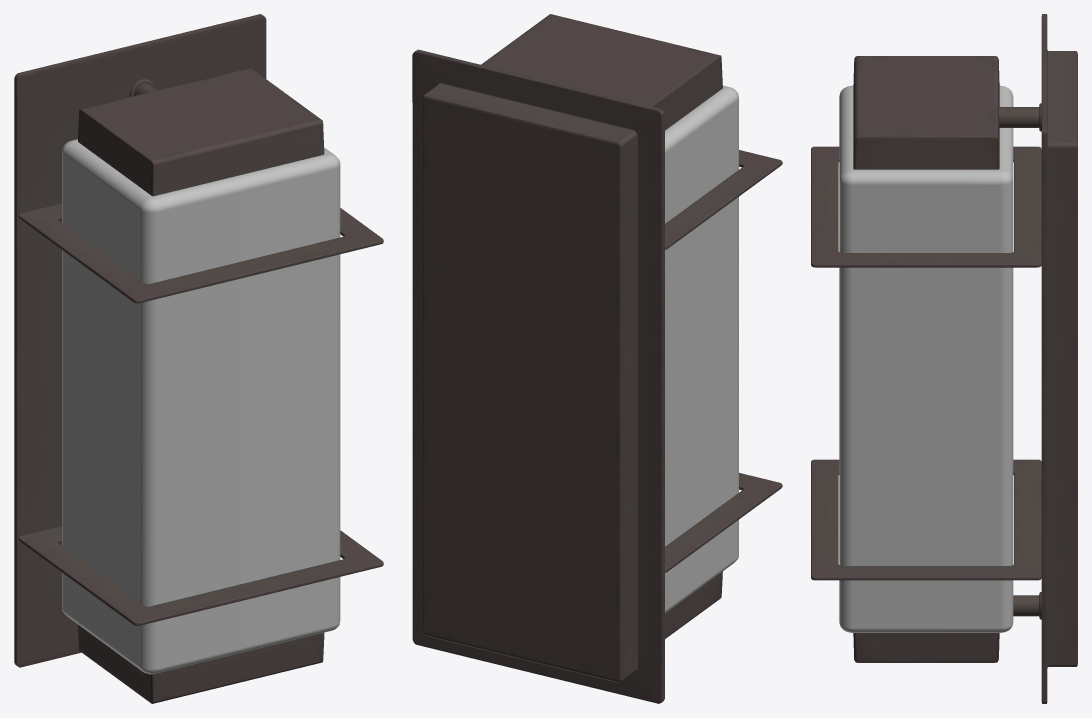
File: abo-B07HKCRWSY.glb
The picture shows the model from 3 angles, left to right: view 1: azimuth 30°, elevation 25°; view 2: azimuth 150°, elevation 25°; view 3: azimuth 270°, elevation 25°; orthographic projection. The views are drawn at different scales.
Bounding box in the file's own units: 0.153 × 0.347 × 0.146.
1 material, 1 textured.
